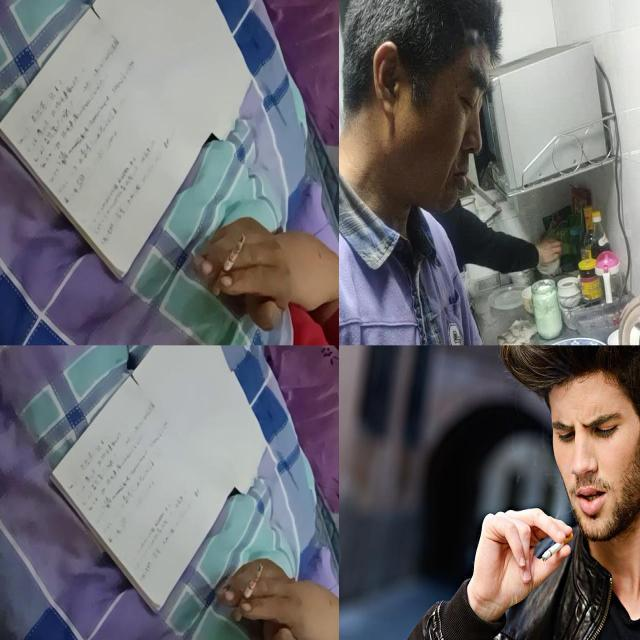cigarette: (210, 233, 247, 298), (232, 564, 264, 622), (464, 176, 502, 212), (540, 530, 576, 560)
